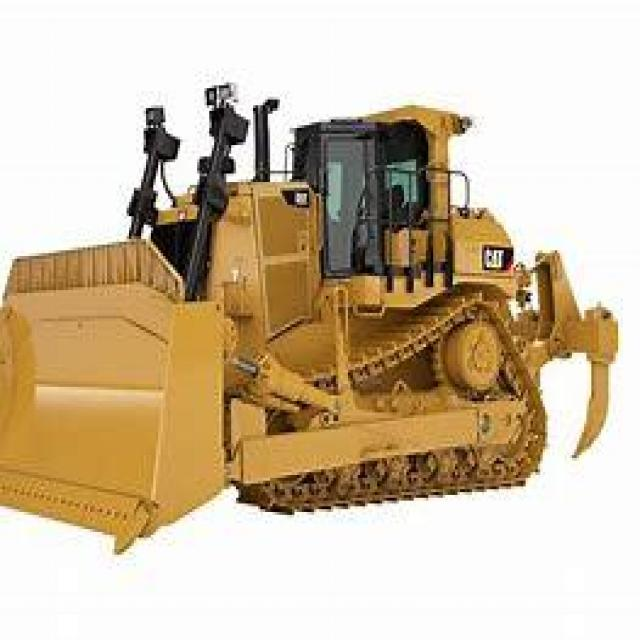Bulldozer: (7, 51, 616, 558)
